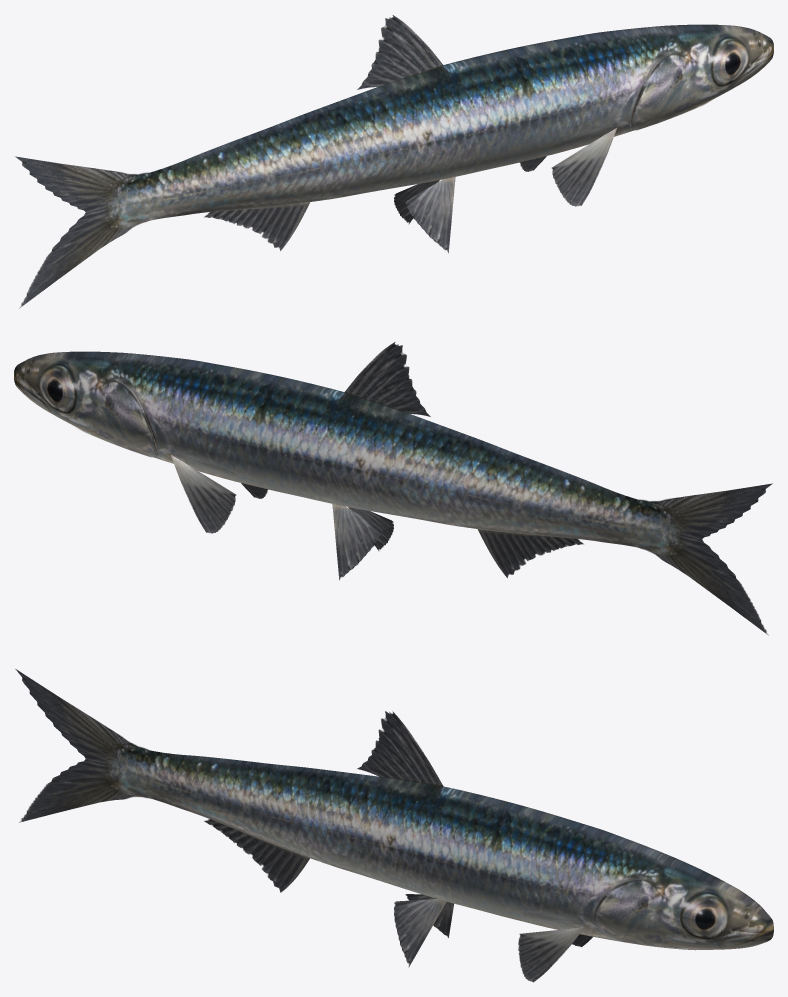
File: katakuchi_lo.glb
The picture shows the model from 3 angles, top to bottom: view 1: azimuth 30°, elevation 25°; view 2: azimuth 150°, elevation 25°; view 3: azimuth 330°, elevation 25°; orthographic projection.
Visible parts, largest first — view 1: katakuchi; view 2: katakuchi; view 3: katakuchi.
Boxes of the visible parts, left/top/right/bottom form: katakuchi: left=15, top=15, right=773, bottom=308; katakuchi: left=14, top=342, right=772, bottom=635; katakuchi: left=15, top=669, right=773, bottom=982.
Bounding box in the file's own units: 0.1299 × 0.0382 × 0.0143.
Materials: 1 (1 with a texture image).
